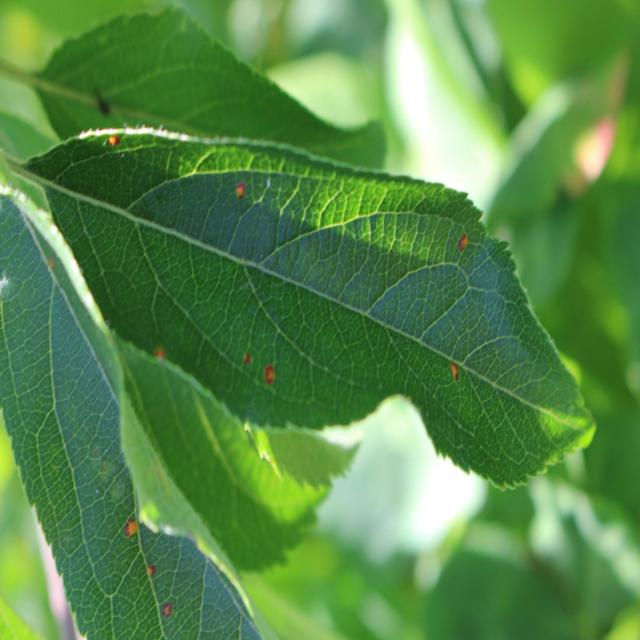Rust: (445, 225, 475, 268), (434, 352, 477, 382), (93, 116, 123, 156), (119, 508, 151, 545), (151, 330, 169, 381), (137, 554, 163, 588), (237, 333, 252, 388), (152, 596, 182, 622), (228, 175, 252, 205), (262, 355, 278, 394)
